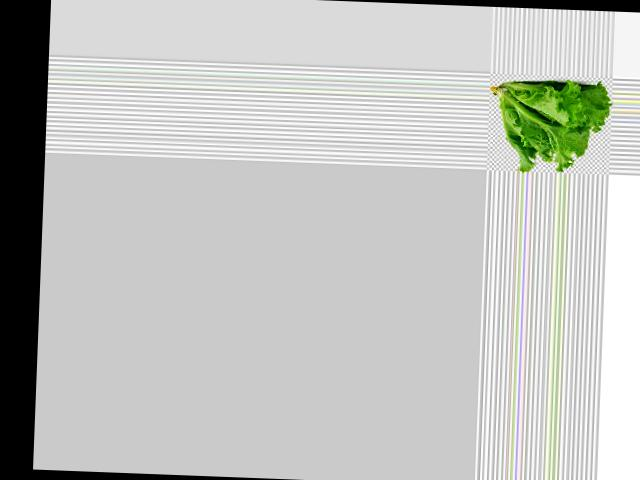lettuce: (486, 80, 611, 174)
